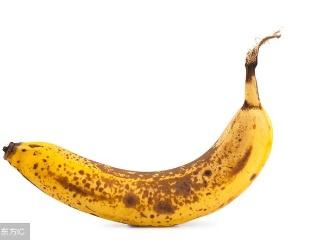Other: (3, 32, 281, 226)
